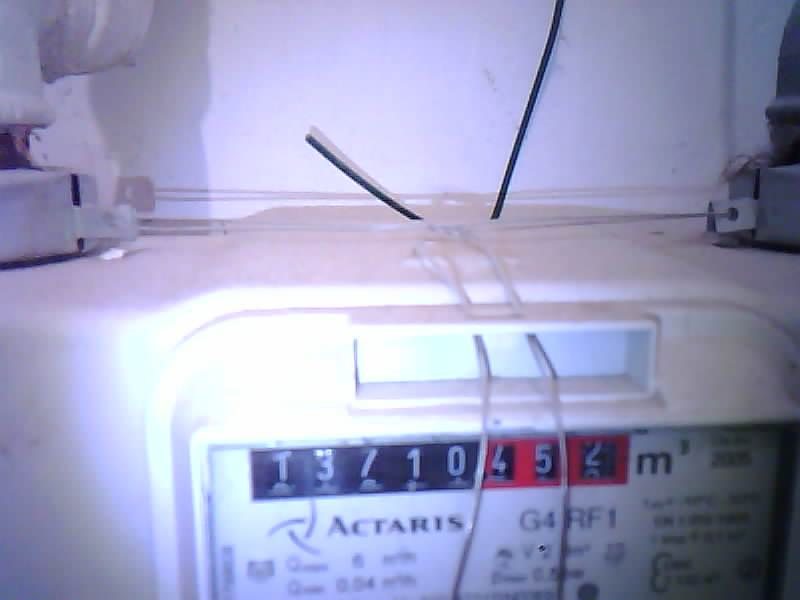nums: (245, 425, 635, 501)
